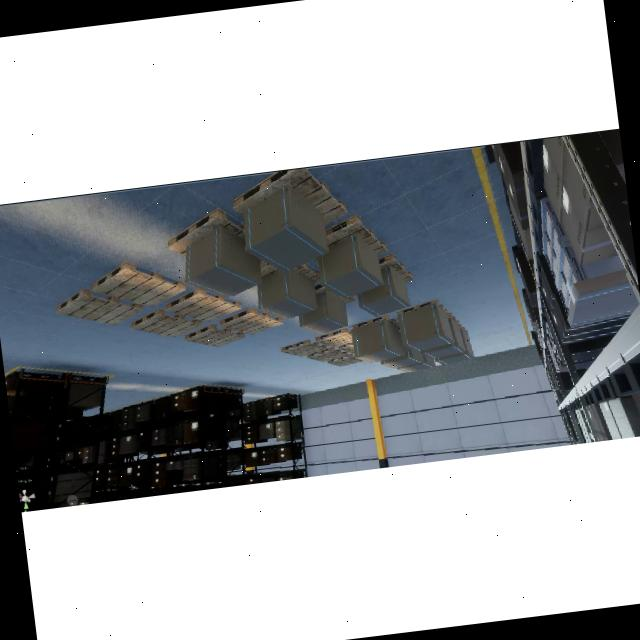wooden_pallet: (232, 167, 349, 226), (91, 261, 186, 308), (167, 207, 245, 257), (56, 288, 142, 326), (165, 286, 242, 322), (325, 214, 387, 255), (129, 309, 202, 338), (219, 307, 283, 334), (184, 323, 245, 347), (379, 253, 414, 282), (397, 299, 448, 315), (280, 340, 326, 357), (314, 328, 352, 347), (352, 314, 397, 329), (307, 347, 348, 362), (327, 353, 364, 366)
